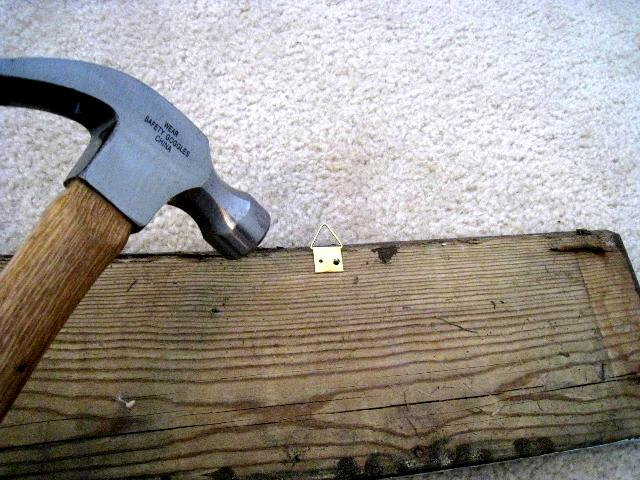hammer: (0, 46, 280, 441)
